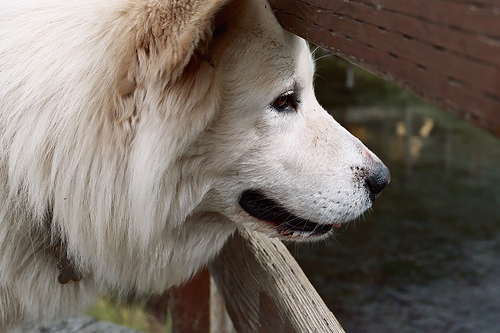dog: (0, 0, 393, 332)
